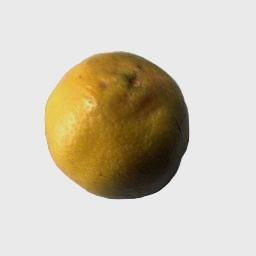Ripe: (46, 51, 192, 197)
